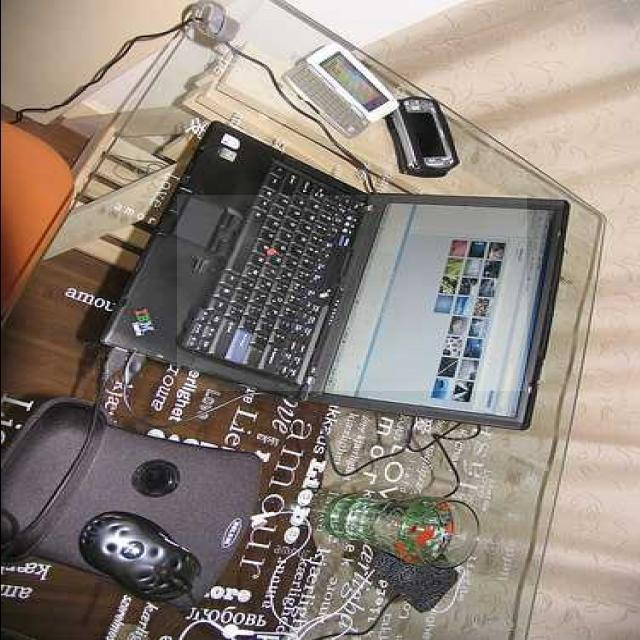-keyboard-: (177, 195, 527, 391)
